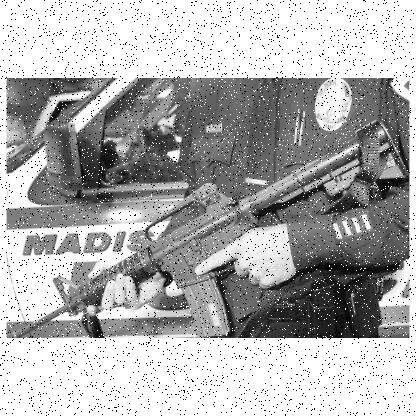gun: (7, 121, 404, 336)
